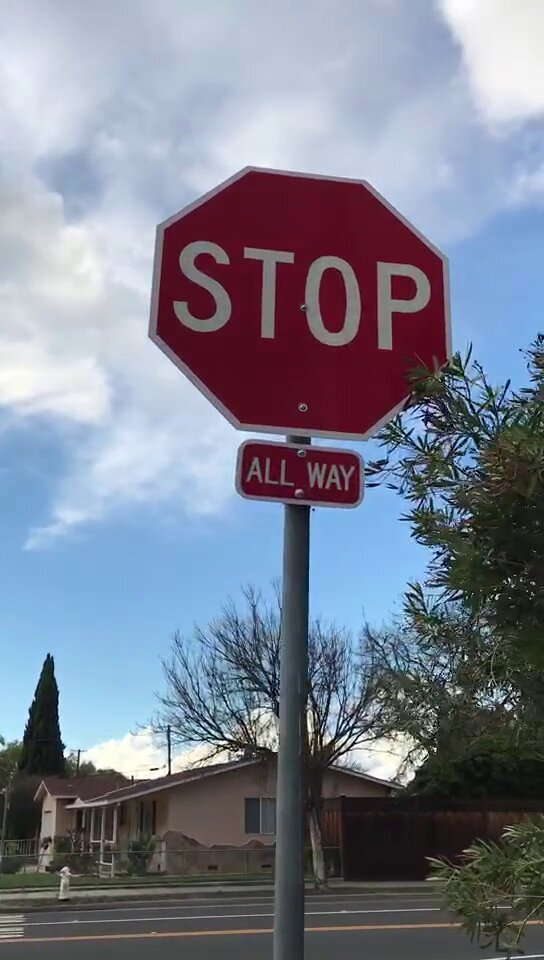stop_sign: (149, 167, 452, 439)
